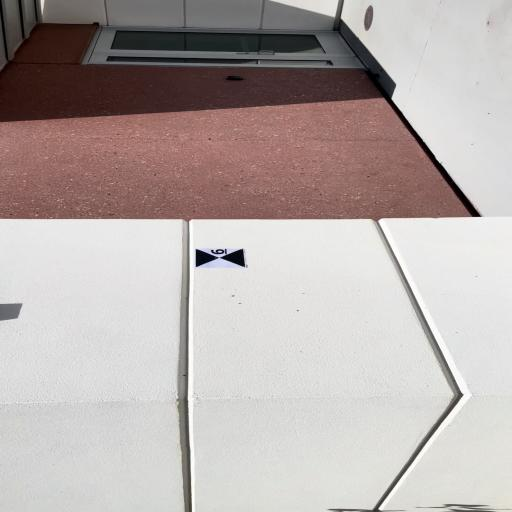target6: (194, 247, 248, 268)
